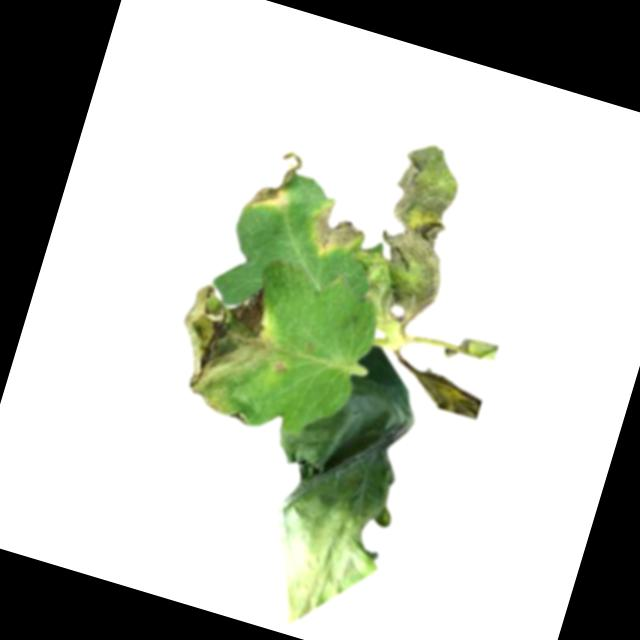Late_blight: (232, 328, 442, 640), (340, 135, 476, 340), (161, 268, 286, 423), (244, 144, 307, 218), (306, 195, 371, 259)
